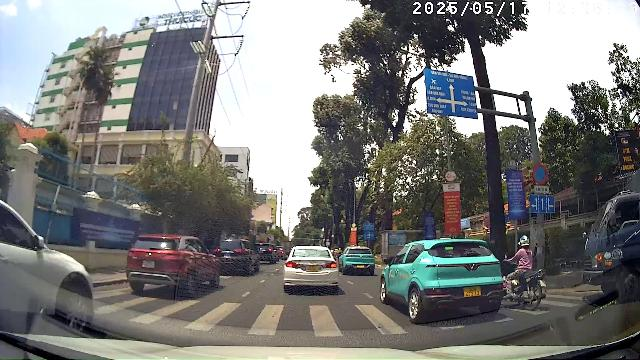131a-cam-do-xe: (532, 163, 548, 184)
